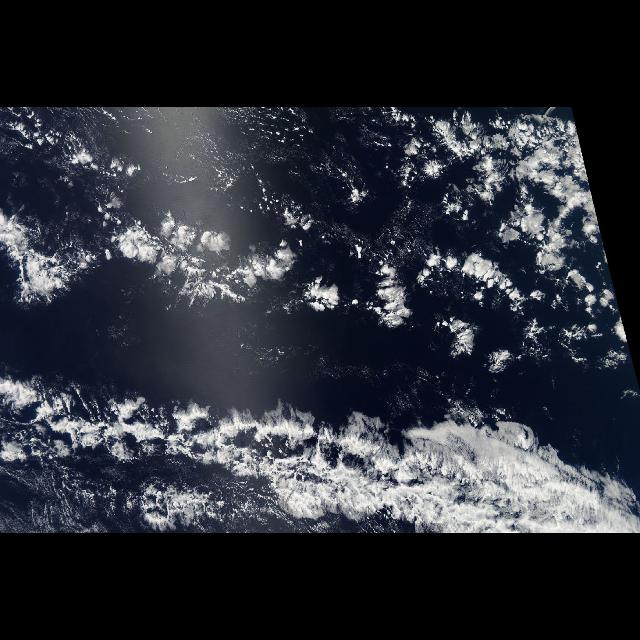Fish: (1, 368, 438, 518)
Flower: (101, 131, 556, 349)
